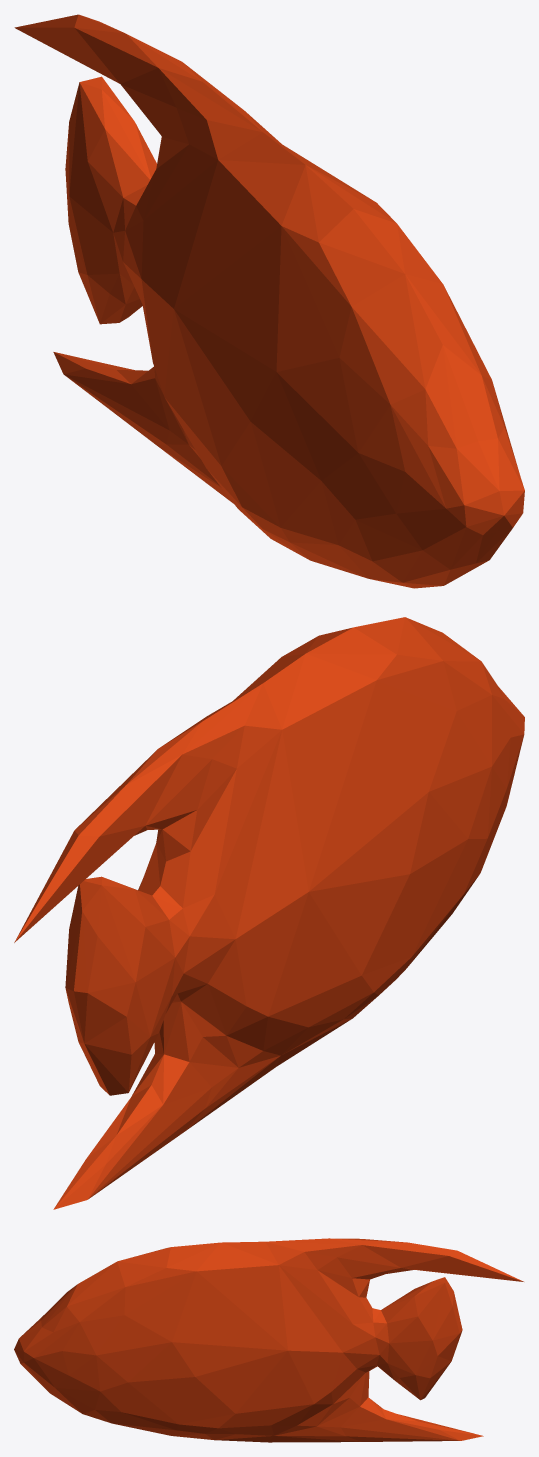
Rendered from Fish_06.fbx.
3 renders of one model, top to bottom at view 1: azimuth 30°, elevation 25°; view 2: azimuth 150°, elevation 25°; view 3: azimuth 270°, elevation 25°, orthographic. The views are drawn at different scales.
Parts seen in each view (by area): view 1: Fish_06; view 2: Fish_06; view 3: Fish_06.
Boxes of the visible parts, x1,y1,x2,y2 form: Fish_06: (14,14,524,588); Fish_06: (14,617,524,1209); Fish_06: (14,1238,523,1442).
Size of the model in its own units: 58.68 by 137 by 312.
